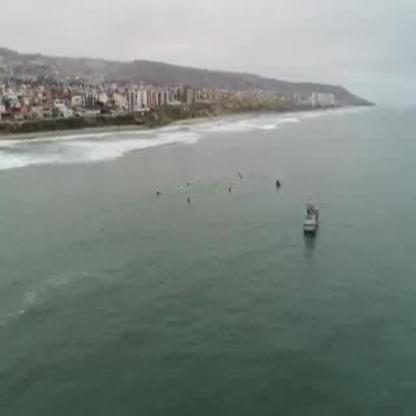Boat: (297, 204, 321, 235)
